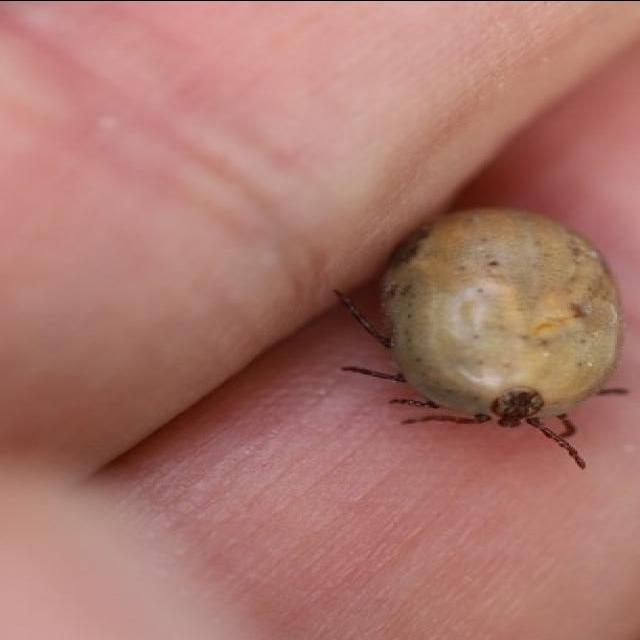Dermacentor Reticulatus-F-Fed: (333, 206, 627, 468)
